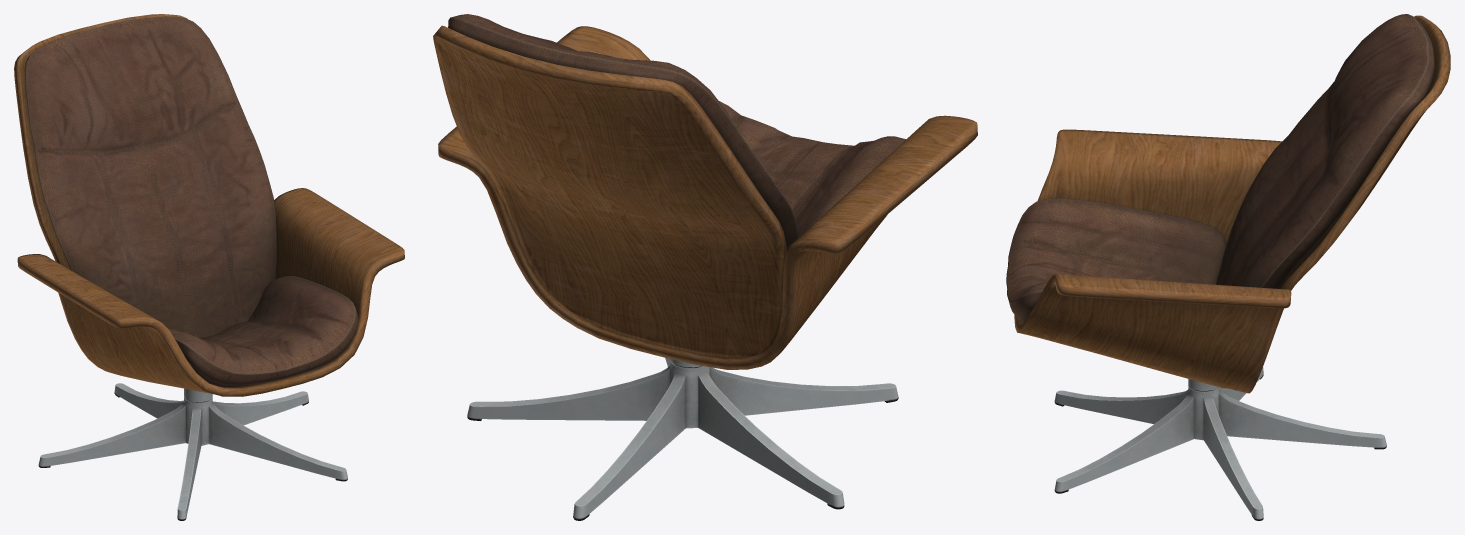
The model's file is mid_century_lounge_chair.glb.
3 renders of one model, left to right at view 1: azimuth 30°, elevation 25°; view 2: azimuth 150°, elevation 25°; view 3: azimuth 270°, elevation 25°, orthographic. The views are drawn at different scales.
Visible parts, largest first — view 1: mid_century_lounge_chair; view 2: mid_century_lounge_chair; view 3: mid_century_lounge_chair.
Boxes of the visible parts, x1,y1,x2,y2 form: mid_century_lounge_chair: (14,14,404,520); mid_century_lounge_chair: (433,14,977,520); mid_century_lounge_chair: (1006,14,1450,520).
Bounding box in the file's own units: 1.01 × 1.17 × 1.19.
1 material, 1 textured.
